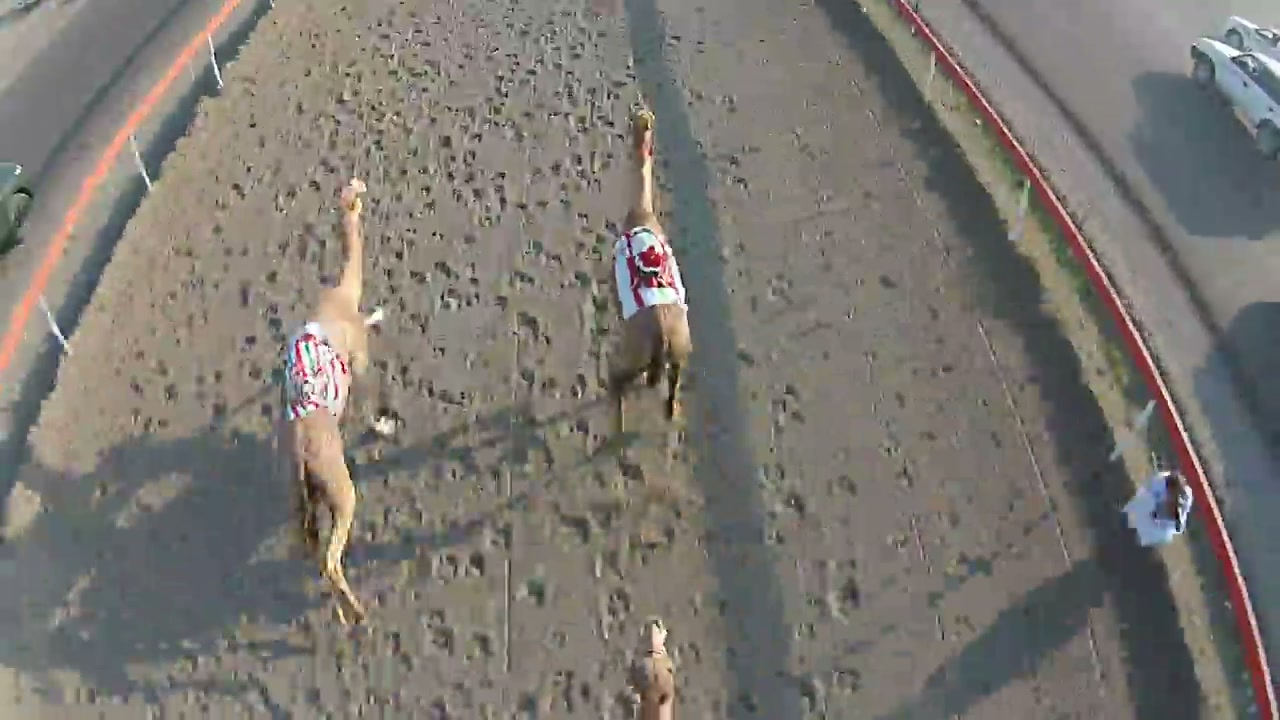animal_foot_print: (382, 54, 553, 711)
